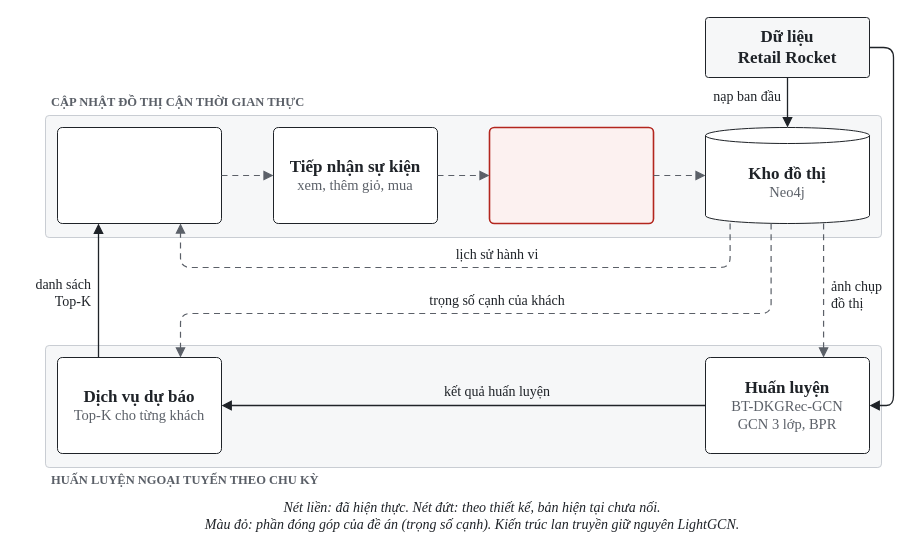
This 922x555 diagram has some shape labels left out. The box of each missing label's shape, as (x1, y1, x2, y2) in pixels:
Cập nhật đồ thị W(u,i) = Σα b e −λΔt: (488, 126, 654, 224)
Ứng dụng khách xem, thêm giỏ, mua và nhận gợi ý: (56, 126, 222, 224)
